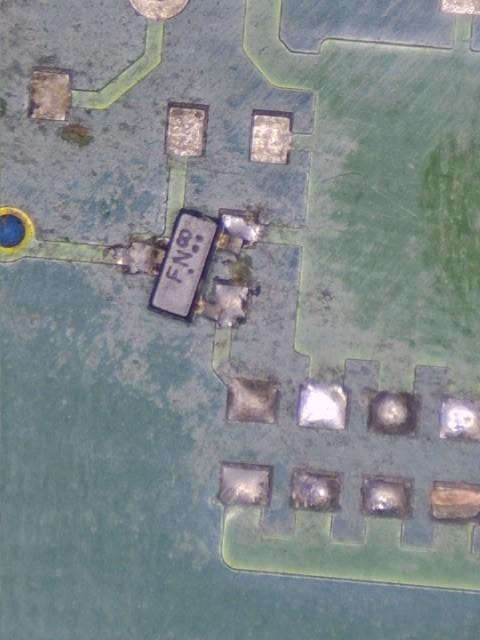pcb_defect: (130, 206, 256, 321)
